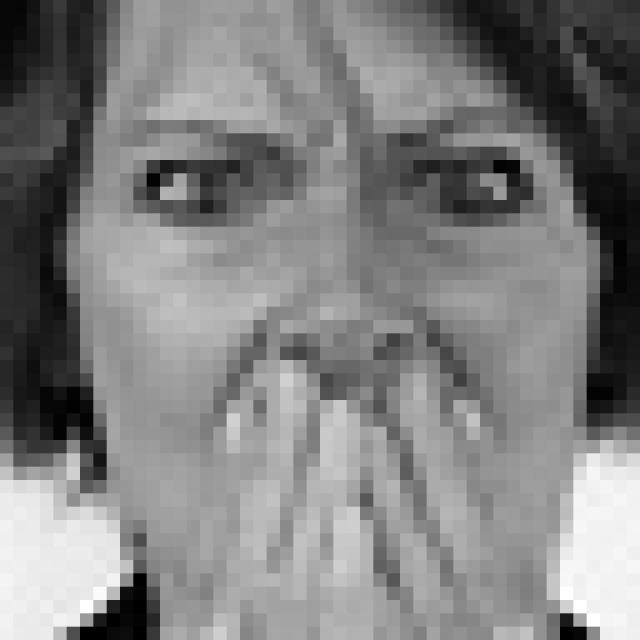fear: (120, 101, 558, 568)
